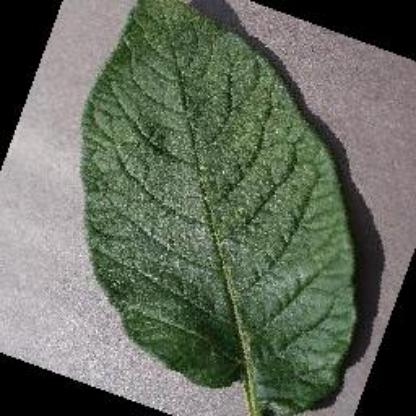Healthy-plant: (78, 0, 364, 412)
